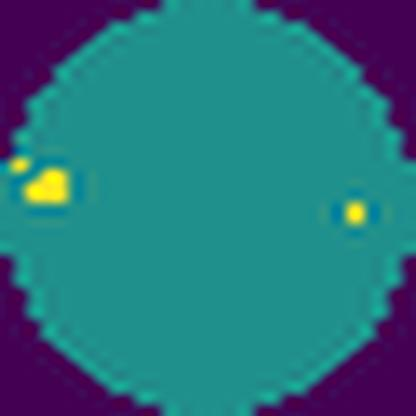Loc: (20, 165, 74, 205)
